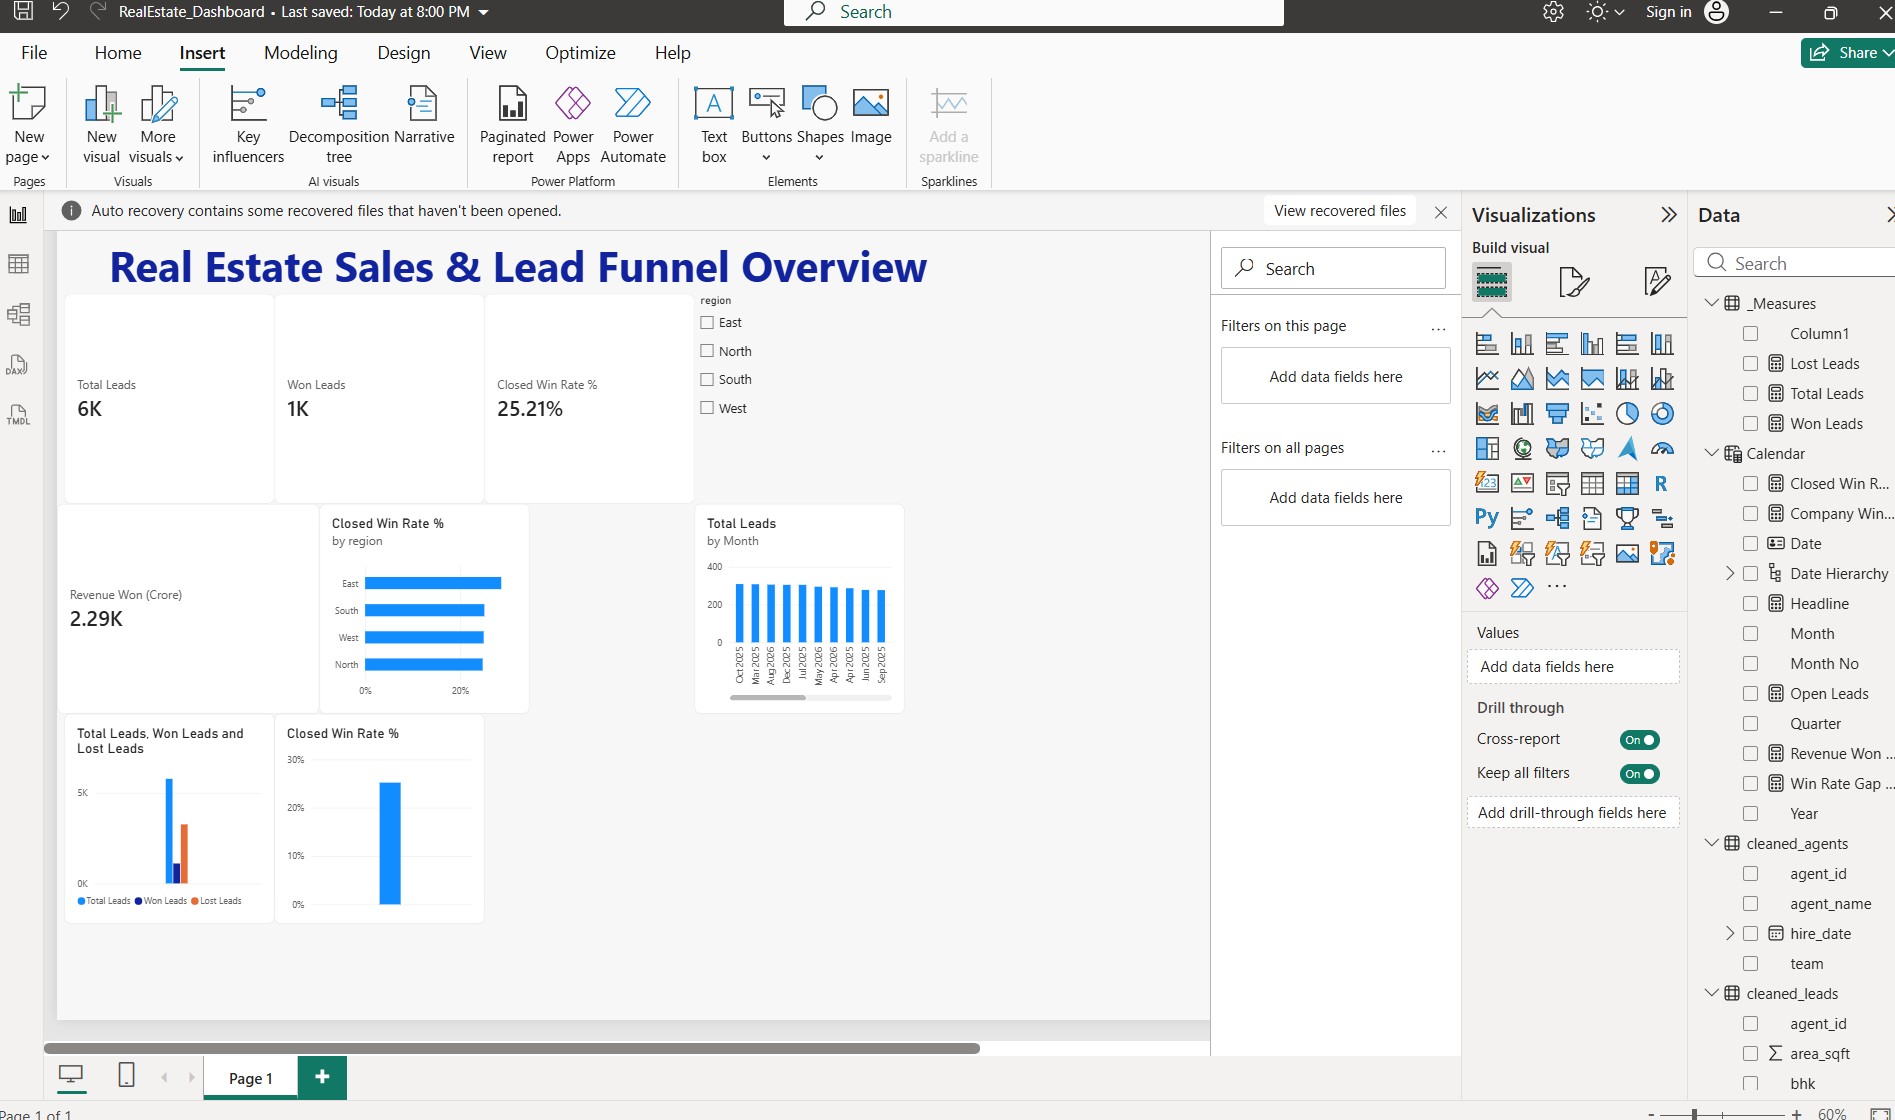

The dashboard page shown, as its layout file describes it:
{"tool":"powerbi","page":{"name":"Page 1","canvas":[1920,1080],"ordinal":0},"visuals":[{"type":"cardVisual","fields":{"Data":["_Measures.Total Leads"]},"box":[10,111.7,280,280],"z":0},{"type":"cardVisual","fields":{"Data":["_Measures.Won Leads"]},"box":[290,111.7,280,280],"z":1000},{"type":"clusteredColumnChart","fields":{"Category":["Calendar.Month"],"Y":["_Measures.Total Leads"]},"box":[850,391.7,280,280],"z":2000},{"type":"slicer","fields":{"Values":["cleaned_leads.region"]},"box":[850,111.7,280,280],"z":3000},{"type":"cardVisual","fields":{"Data":["Calendar.Closed Win Rate %"]},"box":[570,111.7,280,280],"z":4000},{"type":"cardVisual","fields":{"Data":["Calendar.Revenue Won (Crore)"]},"box":[0,391.7,350,280],"z":5000},{"type":"clusteredColumnChart","fields":{"Y":["Calendar.Closed Win Rate %"]},"box":[290,671.7,280,280],"z":6000},{"type":"clusteredColumnChart","fields":{"Y":["_Measures.Total Leads","_Measures.Won Leads","_Measures.Lost Leads"]},"box":[10,671.7,280,280],"z":7000},{"type":"clusteredBarChart","fields":{"Category":["cleaned_leads.region"],"Y":["Calendar.Closed Win Rate %"]},"box":[350,391.7,280,280],"z":7001},{"type":"textbox","box":[10,35,1210,91.7],"z":7002}]}

Visuals, with their boxes on the page's 1920x1080 design canvas (x1, y1, x2, y2). These are canvas units, not pixel positions in the 1895x1120 screenshot, which may show the page scaled, cropped or inside an application window:
cardVisual - _Measures.Total Leads: (10,112,290,392)
cardVisual - _Measures.Won Leads: (290,112,570,392)
clusteredColumnChart - Calendar.Month x _Measures.Total Leads: (850,392,1130,672)
slicer - cleaned_leads.region: (850,112,1130,392)
cardVisual - Calendar.Closed Win Rate %: (570,112,850,392)
cardVisual - Calendar.Revenue Won (Crore): (0,392,350,672)
clusteredColumnChart - Calendar.Closed Win Rate %: (290,672,570,952)
clusteredColumnChart - _Measures.Total Leads x _Measures.Won Leads: (10,672,290,952)
clusteredBarChart - cleaned_leads.region x Calendar.Closed Win Rate %: (350,392,630,672)
textbox: (10,35,1220,127)
